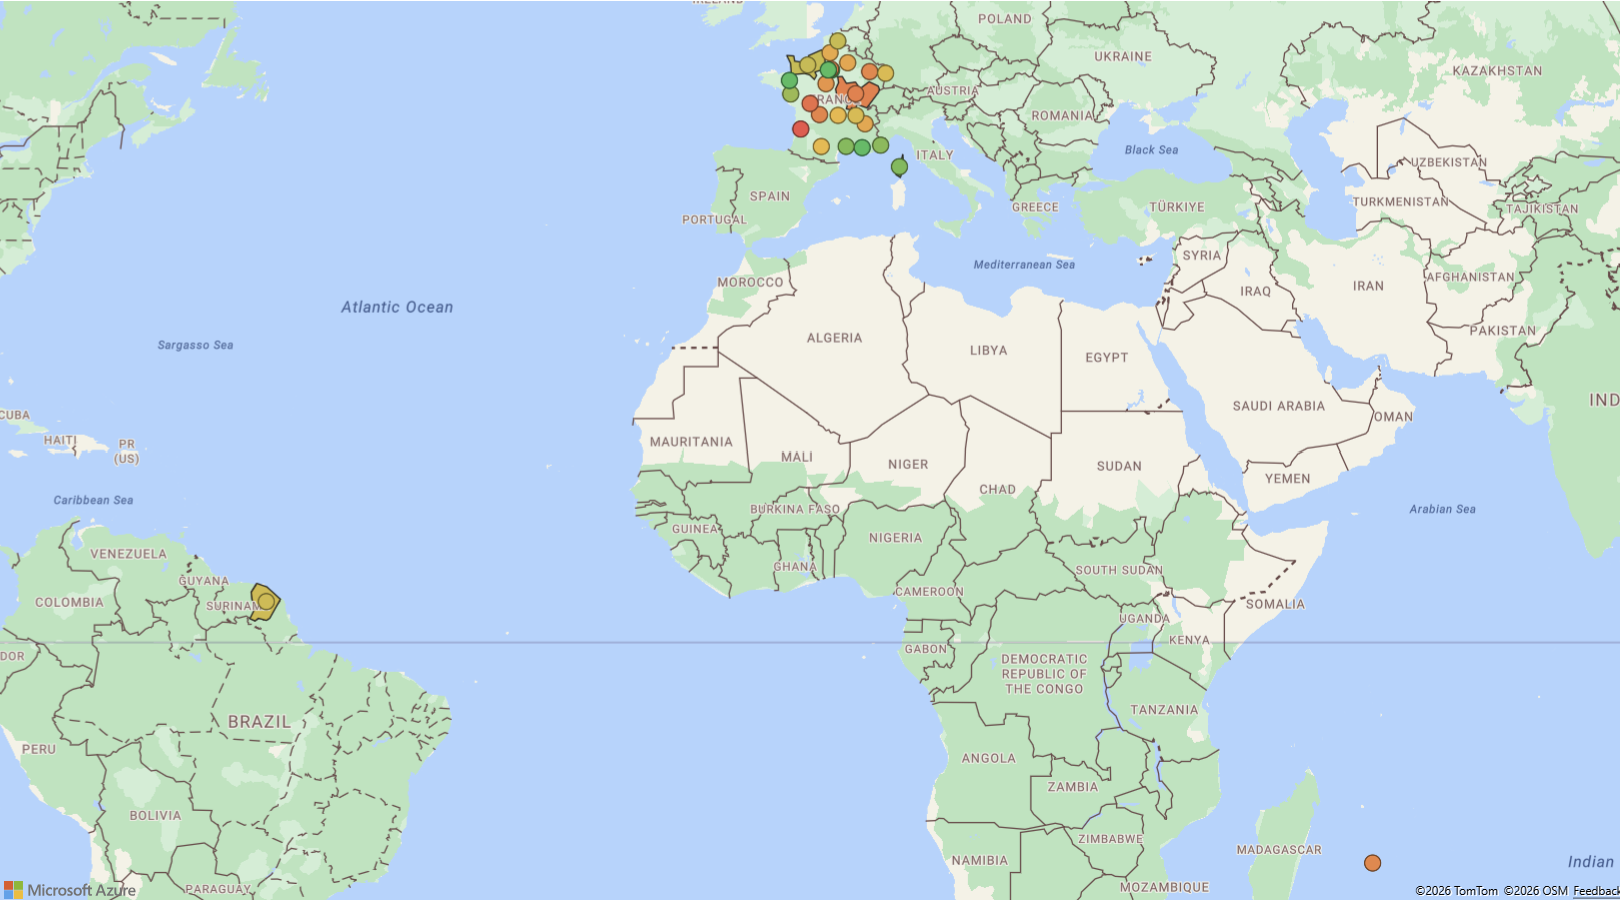

The page's visual inventory and layout, read from the dashboard file:
{"tool":"powerbi","page":{"name":"Page 1","canvas":[1280,720],"ordinal":0},"visuals":[{"type":"azureMap","fields":{"Category":["liste_restaurants.region.libelle"]},"box":[10.7,0,1269.3,719.6],"z":0}]}

Visuals, with their boxes in screenshot pixels (x1, y1, x2, y2), scaled from the page's 1280x720 canvas onto the 1620x900 screenshot:
azureMap - liste_restaurants.region.libelle: 14/0/1619/899
